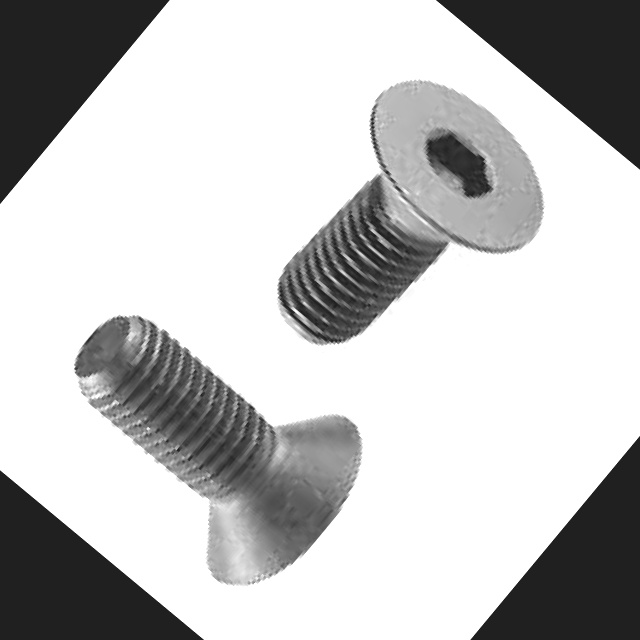allen: (335, 46, 579, 278)
